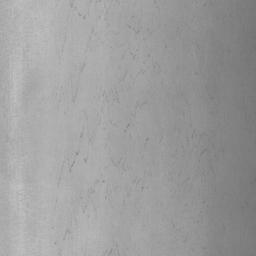Silk spot: (111, 158, 129, 171), (61, 158, 75, 173), (111, 88, 120, 104), (63, 229, 72, 240), (72, 88, 78, 103)
